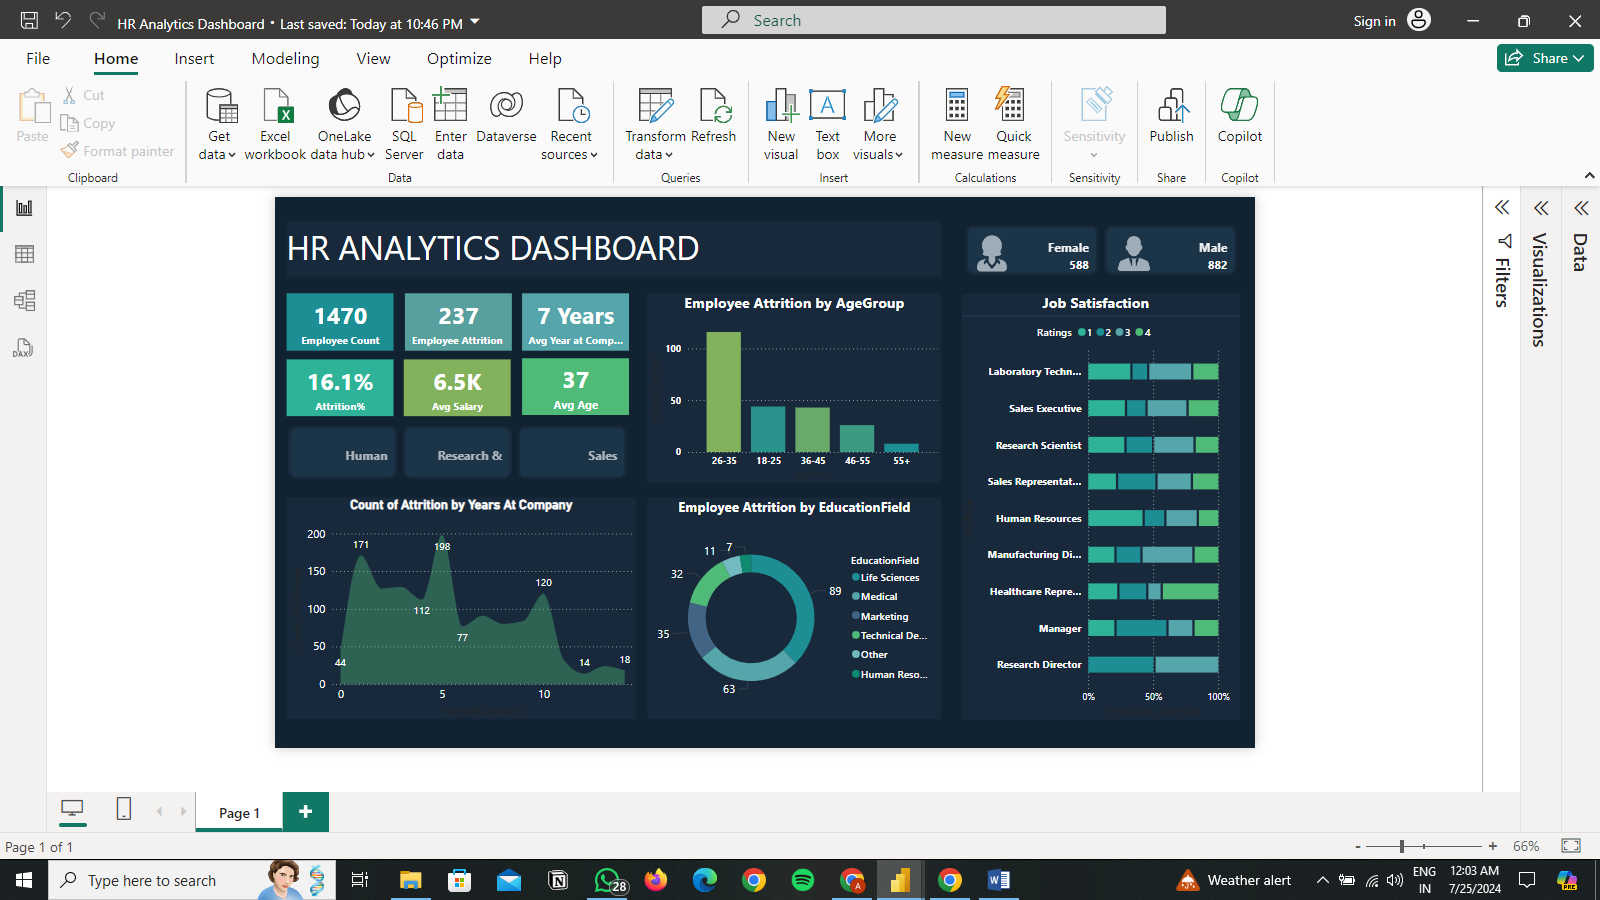

Layout of this report page (visuals, bound fields, positions):
{"tool":"powerbi","page":{"name":"Page 1","canvas":[1280,720],"ordinal":0},"visuals":[{"type":"image","box":[1094.2,36.3,56,75.8],"z":0},{"type":"image","box":[908,44.5,57.7,59.3],"z":1000},{"type":"advancedSlicerVisual","fields":{"Values":["HR_Analytics (1).Gender"]},"box":[896.5,31.3,364.2,75.8],"z":2000},{"type":"areaChart","title":"Count of Attrition by Years At Company","fields":{"Y":["CountNonNull(HR_Analytics (1).Attrition)"],"Category":["HR_Analytics (1).YearsAtCompany"]},"box":[14.8,392.2,456.5,290],"z":3000},{"type":"card","fields":{"Values":["HR_Analytics (1).Years_with_Text"]},"box":[323,125.2,140,75],"z":4000},{"type":"card","fields":{"Values":["HR_Analytics (1).Employee_Count"]},"box":[14.8,125.2,140,75],"z":5000},{"type":"card","fields":{"Values":["HR_Analytics (1).Attrition%"]},"box":[14.8,212.6,140.1,74.2],"z":6000},{"type":"card","fields":{"Values":["HR_Analytics (1).Avg_Age"]},"box":[323,210.9,140.1,74.2],"z":7000},{"type":"donutChart","title":"Employee Attrition by EducationField","fields":{"Y":["HR_Analytics (1).Employee_Attrition"],"Category":["HR_Analytics (1).EducationField"]},"box":[486.1,392.2,384,290],"z":8000},{"type":"clusteredColumnChart","title":"Employee Attrition by AgeGroup","fields":{"Category":["HR_Analytics (1).AgeGroup"],"Y":["HR_Analytics (1).Employee_Attrition"]},"box":[486.1,125.2,384,247.2],"z":9000},{"type":"hundredPercentStackedBarChart","title":"Job Satisfaction","fields":{"Category":["HR_Analytics (1).JobRole"],"Y":["HR_Analytics (1).Employee_Attrition"],"Series":["HR_Analytics (1).JobSatisfaction"]},"box":[896.5,125.2,364.2,557],"z":10000},{"type":"card","fields":{"Values":["HR_Analytics (1).Employee_Attrition"]},"box":[169.7,125.2,140,75],"z":11000},{"type":"card","fields":{"Values":["HR_Analytics (1).Avg_Salary"]},"box":[168.1,212.6,140.1,74.2],"z":12000},{"type":"advancedSlicerVisual","fields":{"Values":["HR_Analytics (1).Department"]},"box":[11.5,293.3,454.8,79.1],"z":13000},{"type":"textbox","box":[14.8,31.3,855.3,72.5],"z":14000}]}

Visuals, with their boxes on the page's 1280x720 design canvas (x1, y1, x2, y2). These are canvas units, not pixel positions in the 1600x900 screenshot, which may show the page scaled, cropped or inside an application window:
image: rect(1094, 36, 1150, 112)
image: rect(908, 44, 966, 104)
advancedSlicerVisual - HR_Analytics (1).Gender: rect(896, 31, 1261, 107)
"Count of Attrition by Years At Company" areaChart: rect(15, 392, 471, 682)
card - HR_Analytics (1).Years_with_Text: rect(323, 125, 463, 200)
card - HR_Analytics (1).Employee_Count: rect(15, 125, 155, 200)
card - HR_Analytics (1).Attrition%: rect(15, 213, 155, 287)
card - HR_Analytics (1).Avg_Age: rect(323, 211, 463, 285)
"Employee Attrition by EducationField" donutChart: rect(486, 392, 870, 682)
"Employee Attrition by AgeGroup" clusteredColumnChart: rect(486, 125, 870, 372)
"Job Satisfaction" hundredPercentStackedBarChart: rect(896, 125, 1261, 682)
card - HR_Analytics (1).Employee_Attrition: rect(170, 125, 310, 200)
card - HR_Analytics (1).Avg_Salary: rect(168, 213, 308, 287)
advancedSlicerVisual - HR_Analytics (1).Department: rect(12, 293, 466, 372)
textbox: rect(15, 31, 870, 104)
